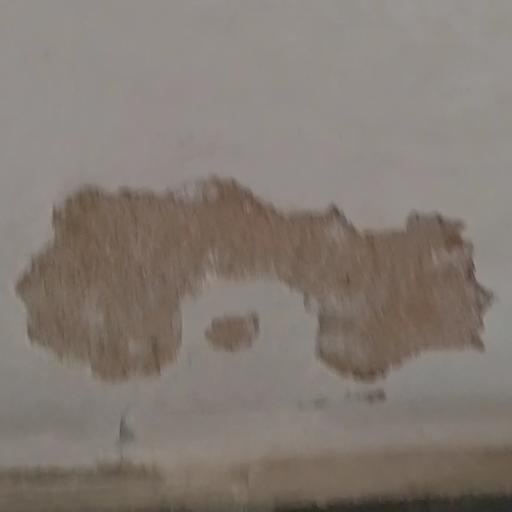spalling: (11, 167, 501, 412)
